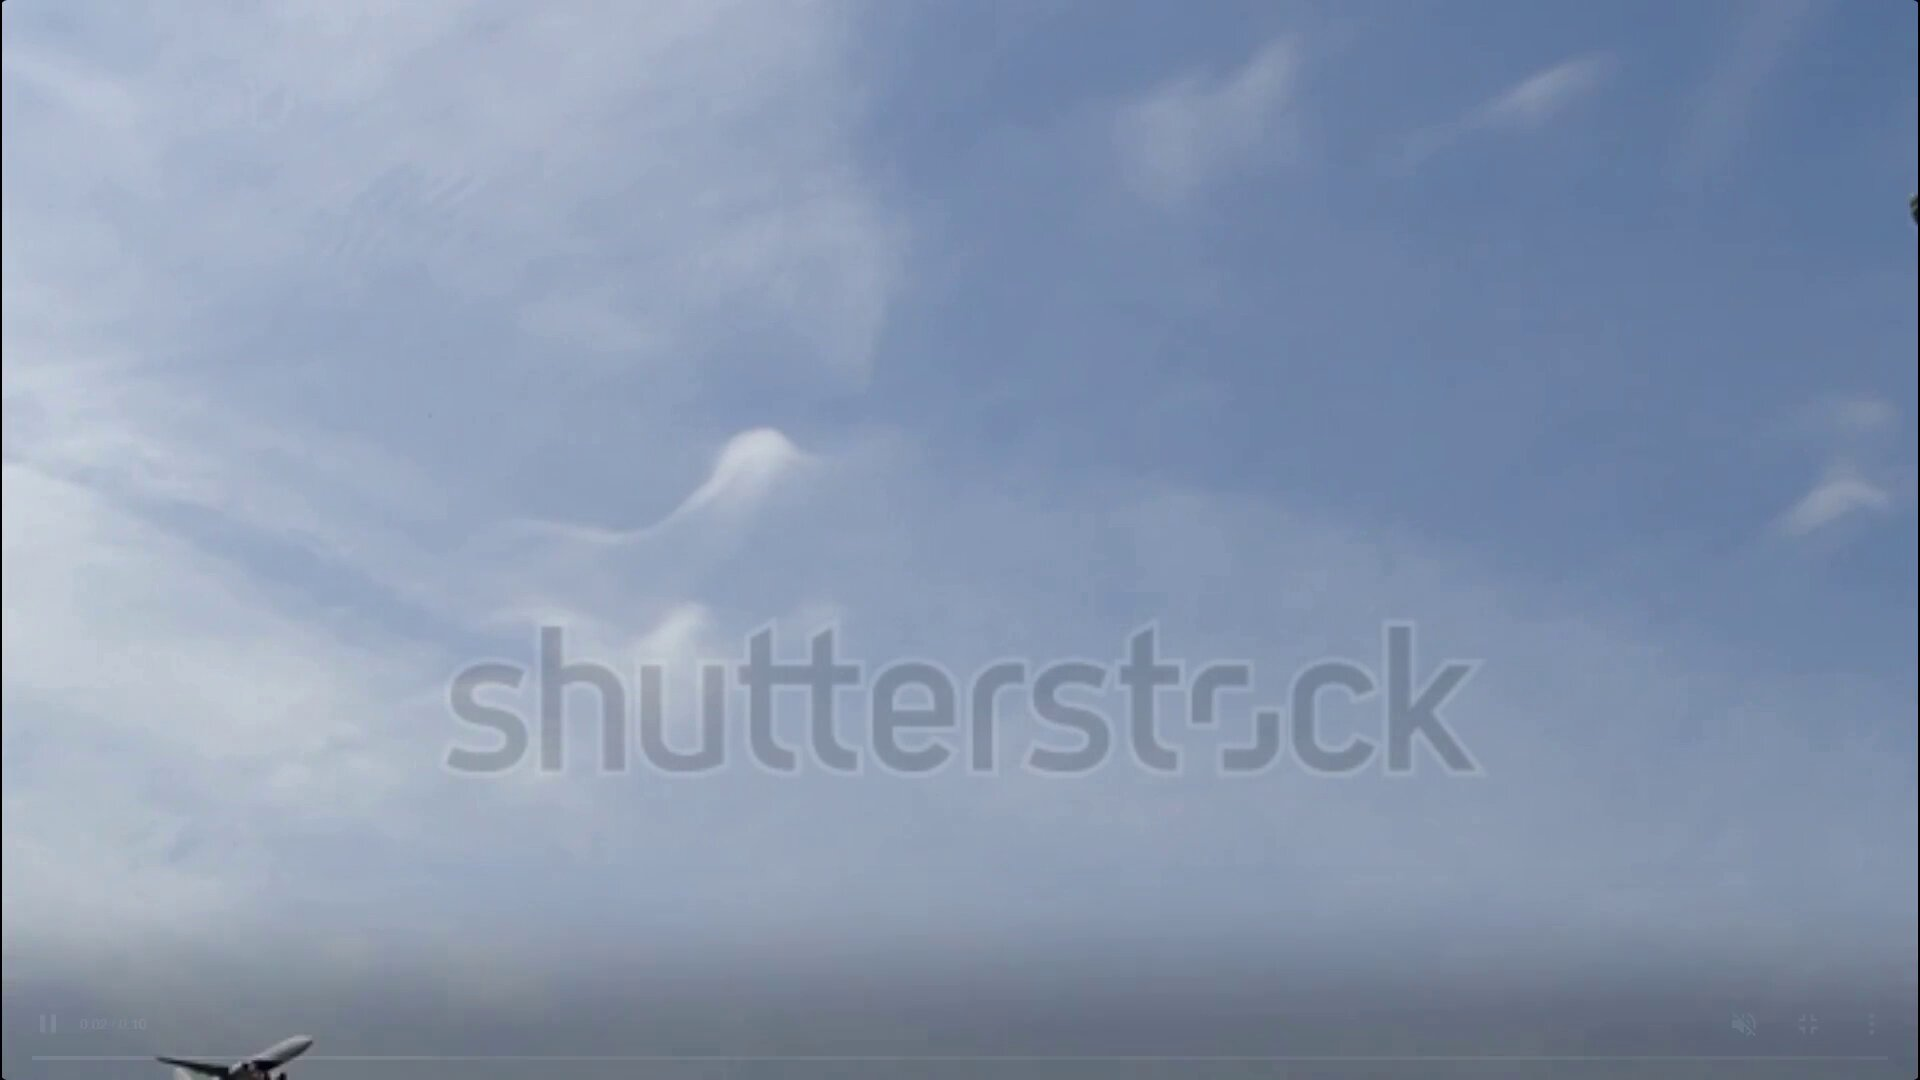airplane: (153, 1031, 319, 1080)
